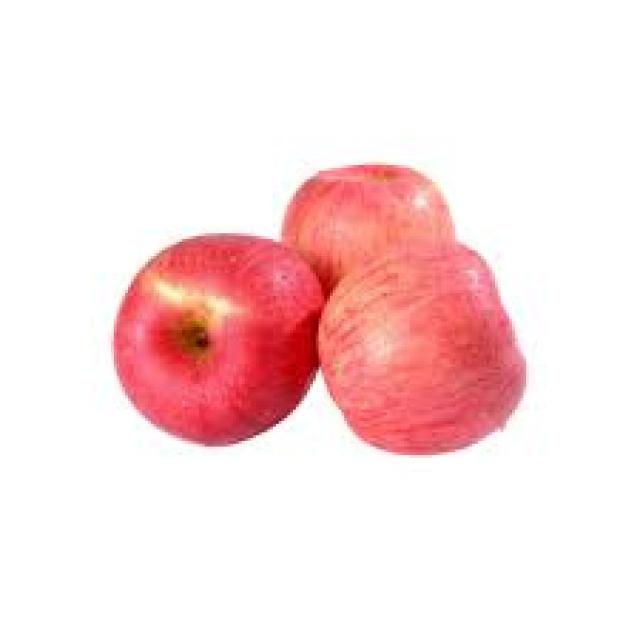apple: (105, 203, 338, 458)
